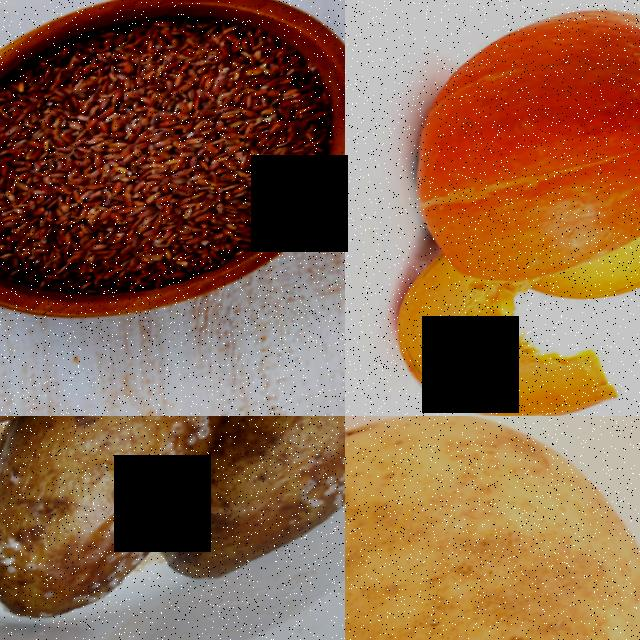potato: (345, 416, 640, 640), (0, 416, 221, 638), (202, 416, 345, 569)
pumpkin: (394, 0, 640, 319), (379, 272, 624, 416)
red rice: (0, 0, 342, 330)
